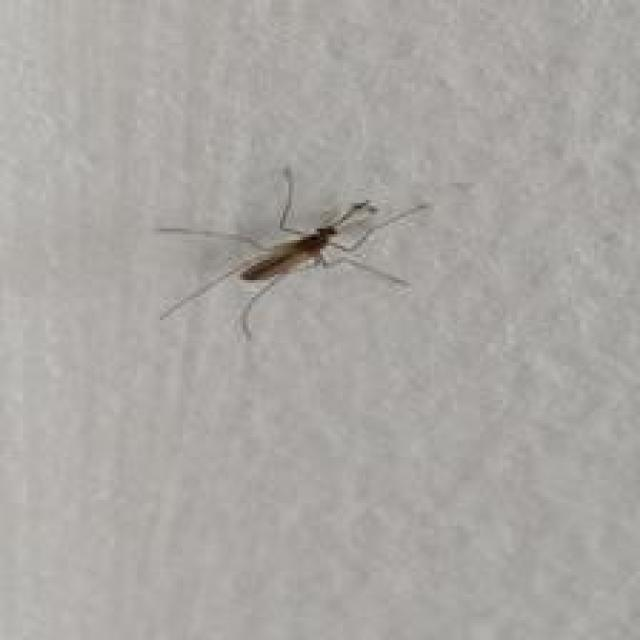Culex: (154, 165, 432, 342)
